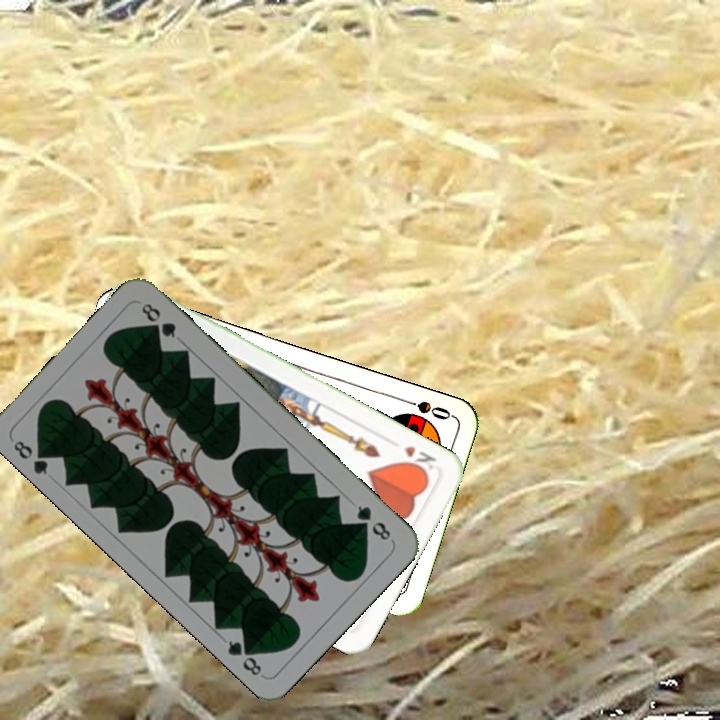G8: (9, 436, 54, 478), (352, 501, 394, 543)
HK: (399, 441, 439, 477)
SO: (396, 394, 454, 423)
